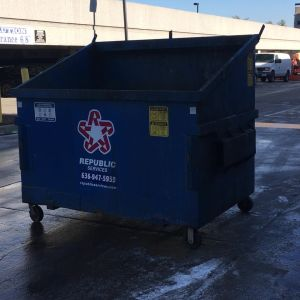Dumpster: (8, 23, 269, 249)
